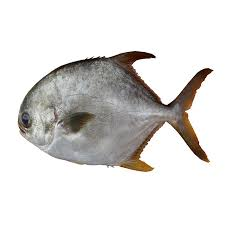Ikan Bawal: (13, 44, 217, 178)
